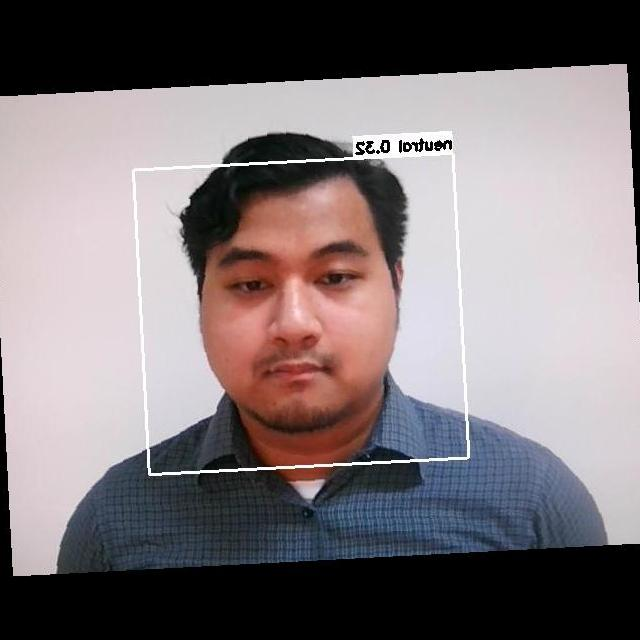Natural: (209, 237, 380, 411)
